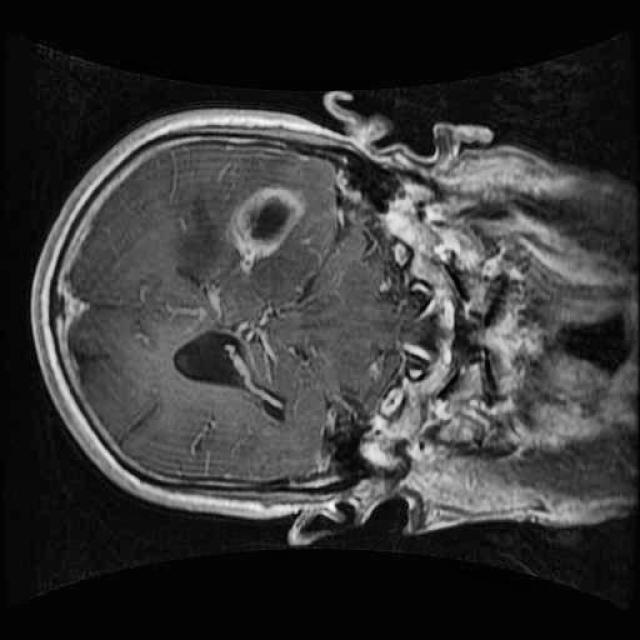Tumor: (224, 172, 312, 276)
